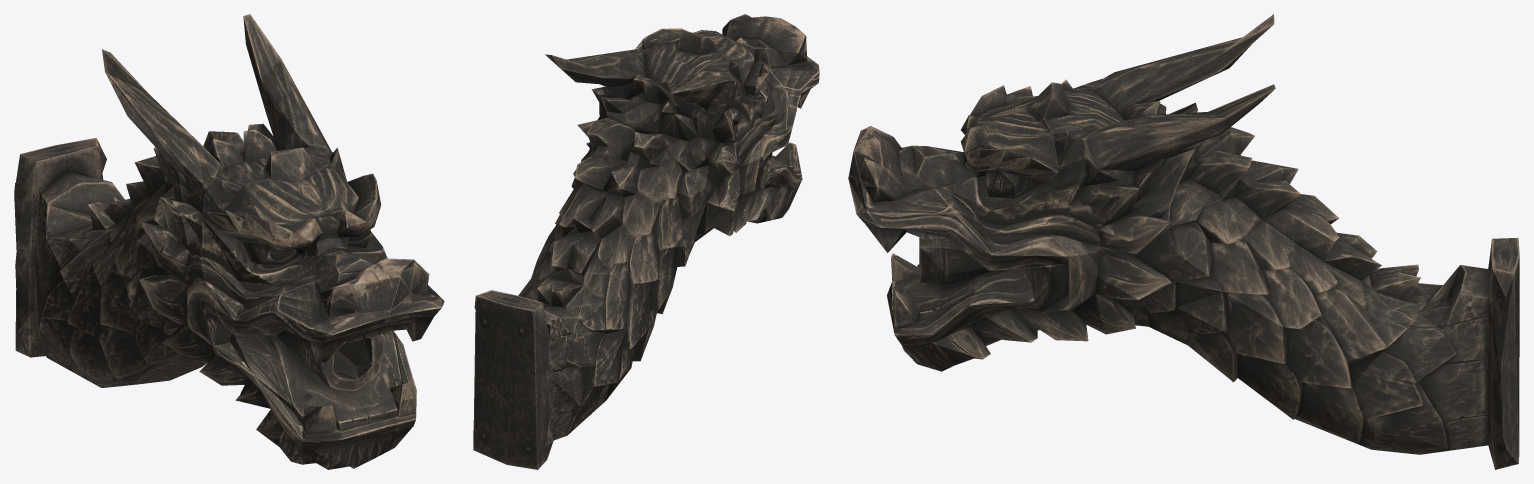
File: dragonhead-attempt-1.glb
3 renders of one model, left to right at view 1: azimuth 30°, elevation 25°; view 2: azimuth 150°, elevation 25°; view 3: azimuth 270°, elevation 25°, orthographic. The views are drawn at different scales.
Visible parts, largest first — view 1: Mesh_0; view 2: Mesh_0; view 3: Mesh_0.
Part boxes in pixels (left/top/right/bottom): Mesh_0: left=14, top=14, right=444, bottom=469; Mesh_0: left=473, top=14, right=819, bottom=469; Mesh_0: left=848, top=14, right=1519, bottom=469.
Size of the model in its own units: 0.5985 by 1.25 by 1.9.
Materials: 1 (1 with a texture image).
